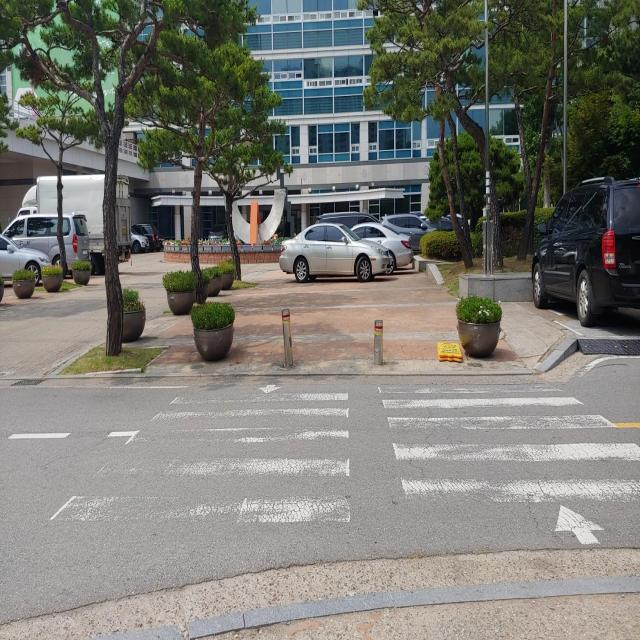횡단보도: (48, 381, 640, 548)
